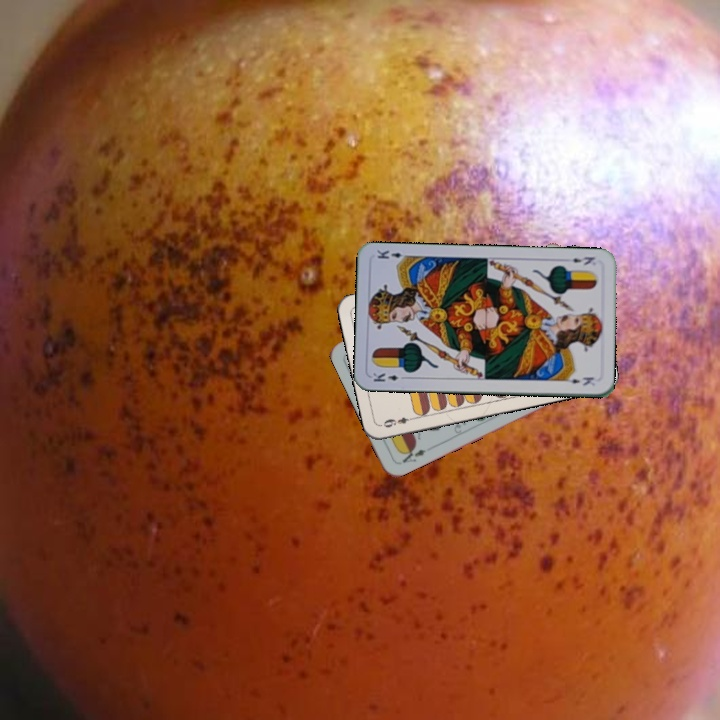E9: (379, 413, 418, 430)
EA: (397, 443, 428, 465)
EK: (369, 368, 409, 384), (568, 253, 597, 268)
